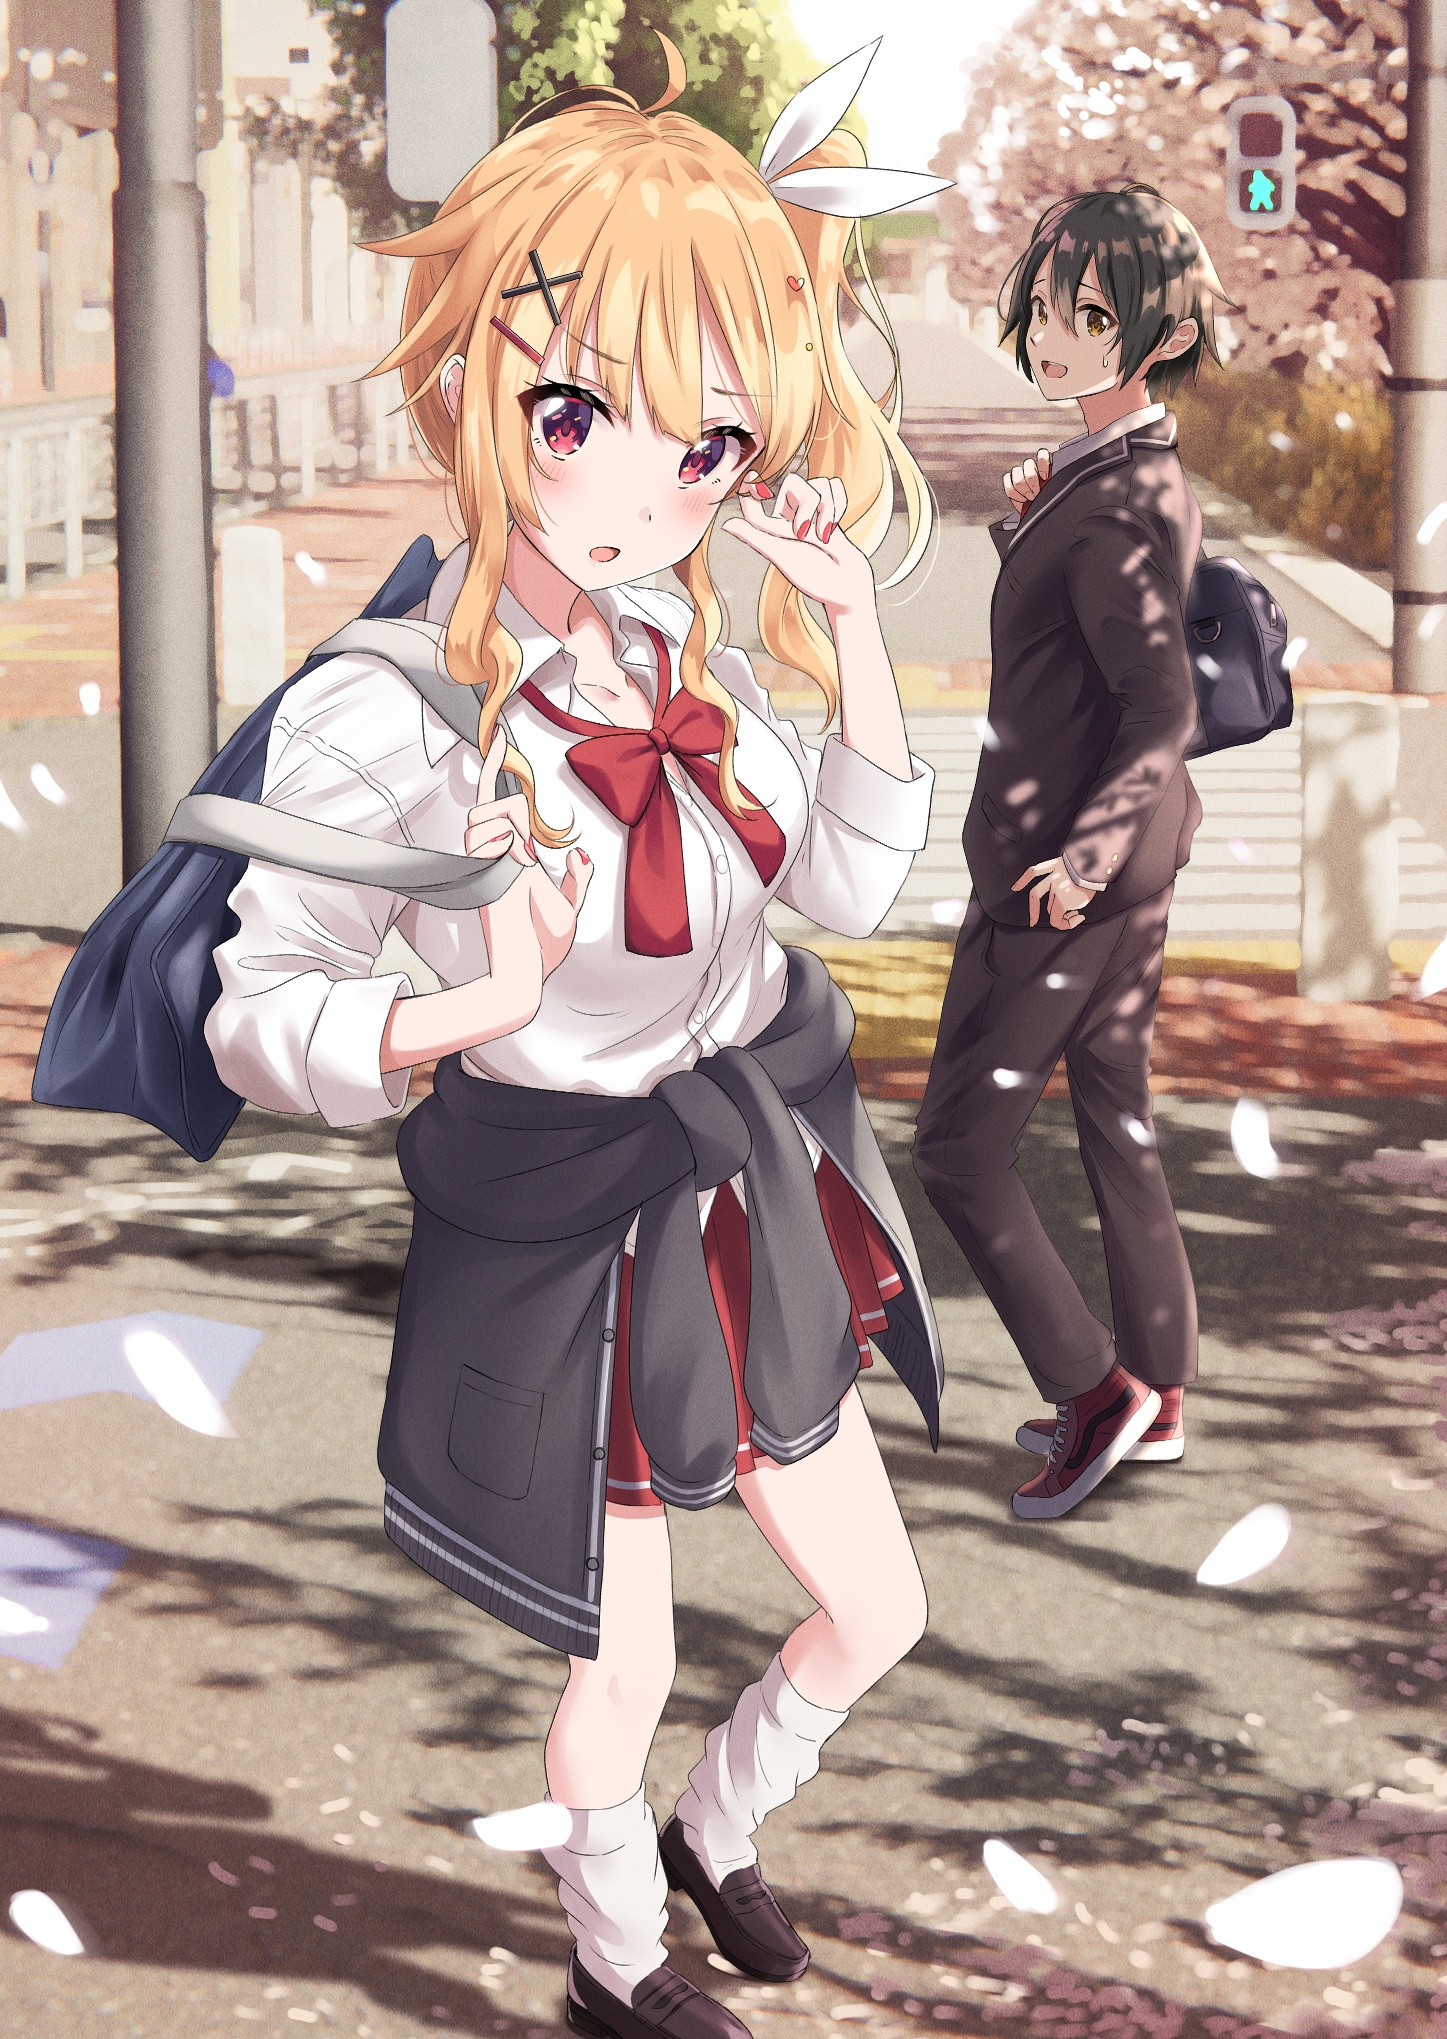纸片人正脸: (387, 89, 867, 609), (997, 188, 1228, 414)
